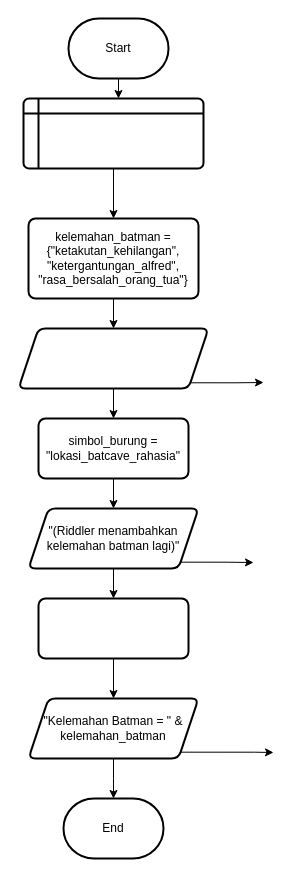
The diagram is 299 pixels wide and 876 high, and some of its shapes have lost their labels. Each missing label, with the box of its shape:
"Kelemahan Batman =" & kelemahan_batman: (17, 327, 209, 389)
kelemahan_batman.add (simbol_burung): (37, 597, 189, 659)
set(kelemahan_batman) Str(simbol_burung): (22, 97, 204, 169)
